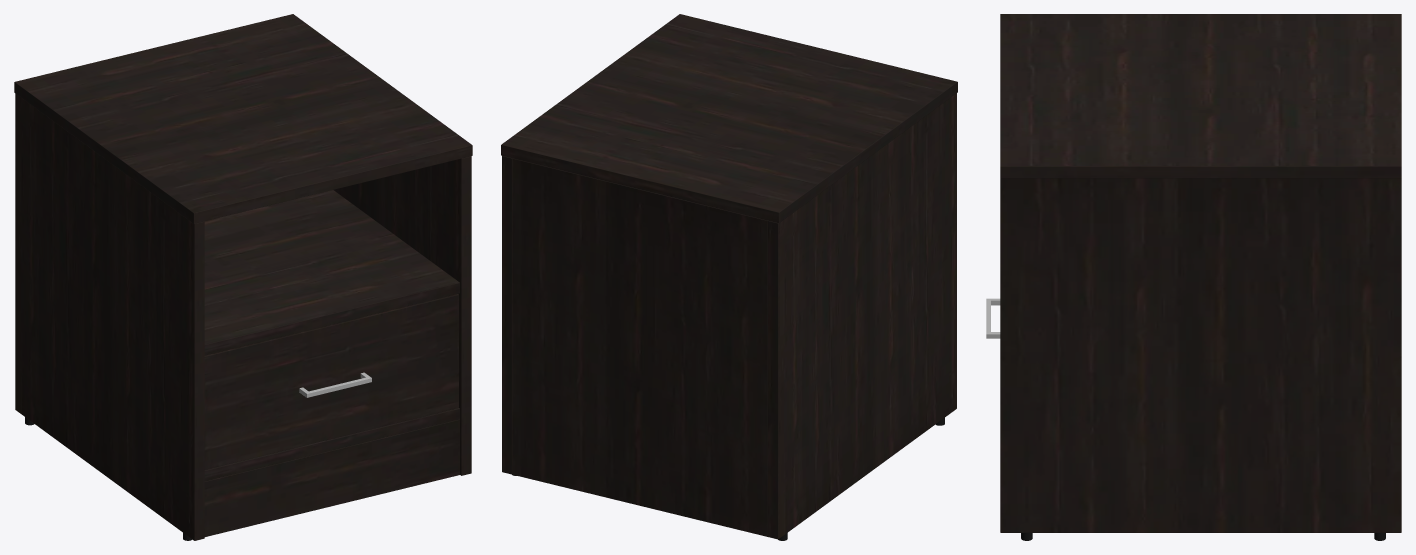
The model's file is abo-B07L1DH1PX.glb.
3 views of the same model, side by side, from view 1: azimuth 30°, elevation 25°; view 2: azimuth 150°, elevation 25°; view 3: azimuth 270°, elevation 25° (orthographic). The views are drawn at different scales.
Size of the model in its own units: 0.4 by 0.46 by 0.461.
Materials: 1 (1 with a texture image).
